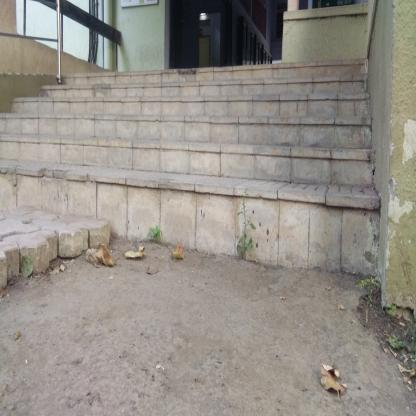stairs: (112, 83, 356, 277)
